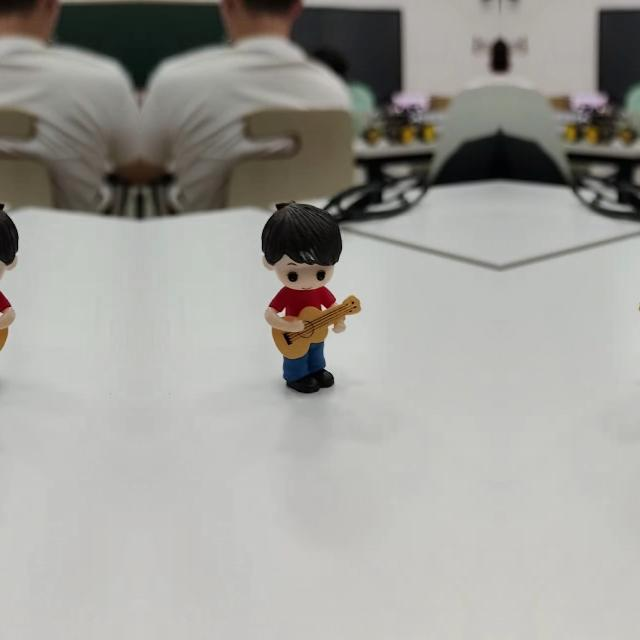man head: (258, 194, 342, 296), (268, 284, 339, 324), (0, 194, 22, 295), (0, 283, 11, 324)
